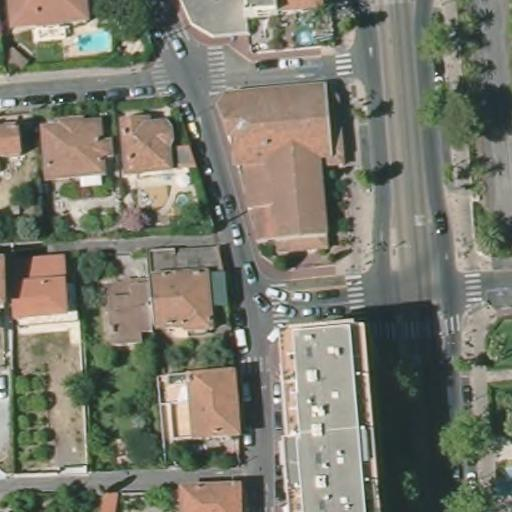pool: (75, 28, 113, 53)
